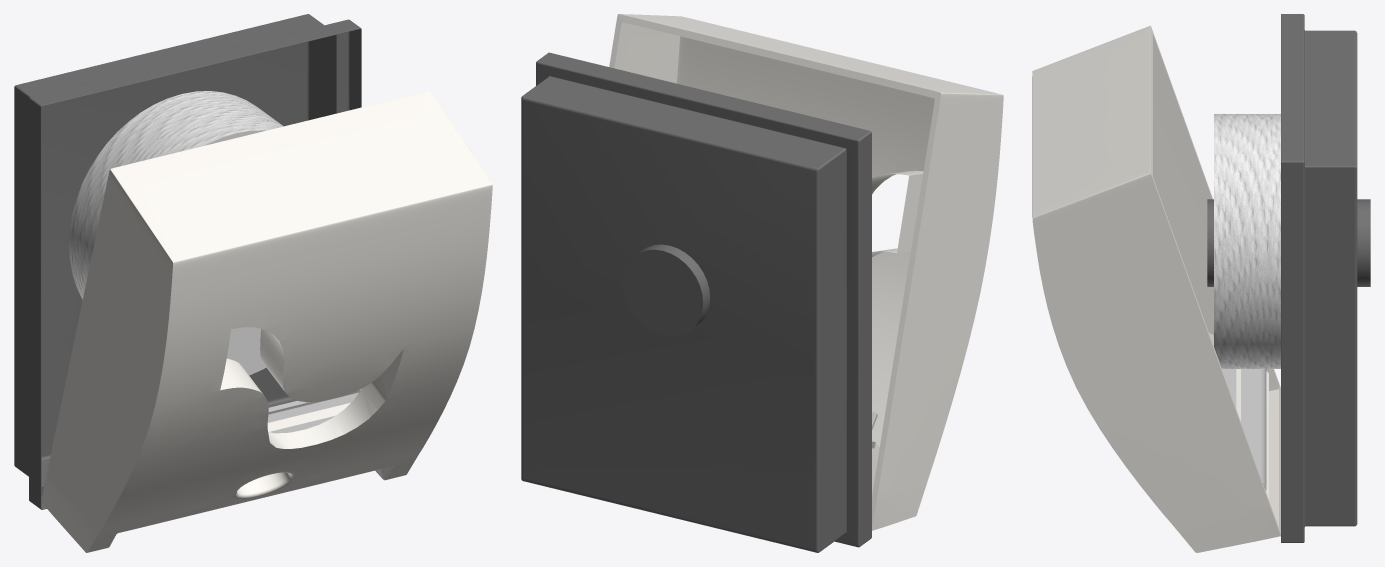
The model's file is tissue_holder.fbx.
3 renders of one model, left to right at view 1: azimuth 30°, elevation 25°; view 2: azimuth 150°, elevation 25°; view 3: azimuth 270°, elevation 25°, orthographic. The views are drawn at different scales.
Parts seen in each view (by area): view 1: Object_7, Object_2, toilet_paper.001, Object_6; view 2: Object_2, Object_7; view 3: Object_7, Object_2, toilet_paper.001, Object_4.
Boxes of the visible parts, x1=… form: Object_7: x1=41, y1=91, x2=492, y2=552; Object_2: x1=14, y1=14, x2=361, y2=509; toilet_paper.001: x1=69, y1=91, x2=283, y2=375; Object_6: x1=267, y1=392, x2=358, y2=433; Object_2: x1=521, y1=52, x2=871, y2=552; Object_7: x1=609, y1=14, x2=1003, y2=530; Object_7: x1=1032, y1=25, x2=1280, y2=552; Object_2: x1=1207, y1=14, x2=1370, y2=542; toilet_paper.001: x1=1214, y1=114, x2=1280, y2=368; Object_4: x1=1209, y1=333, x2=1266, y2=490.
Bounding box in the file's own units: 25 × 30.85 × 24.12.
Materials: 9 (2 with a texture image).
